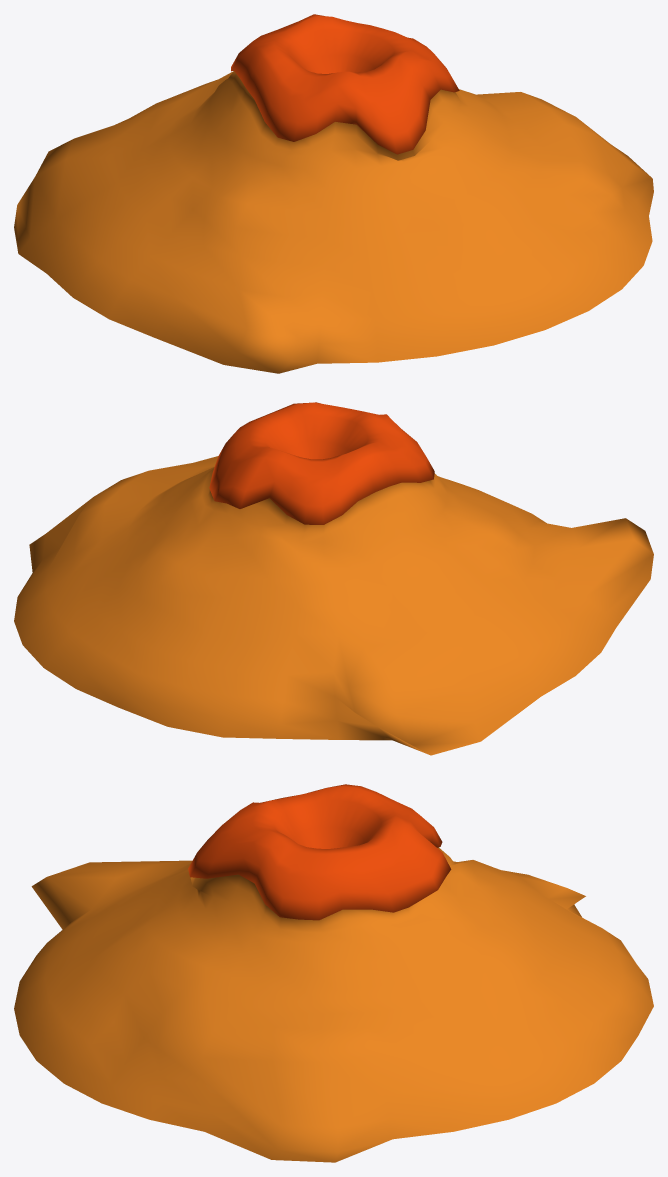
Rendered from Volcano_P1.v2.fbx.
3 views of the same model, one above another, from view 1: azimuth 30°, elevation 25°; view 2: azimuth 150°, elevation 25°; view 3: azimuth 270°, elevation 25° (orthographic). The views are drawn at different scales.
Parts seen in each view (by area): view 1: Cube; view 2: Cube; view 3: Cube.
Boxes of the visible parts, bbox=[...] form: Cube: bbox=[14, 14, 653, 373]; Cube: bbox=[14, 402, 653, 755]; Cube: bbox=[14, 784, 653, 1162].
Bounding box in the file's own units: 626 × 222 × 607.
